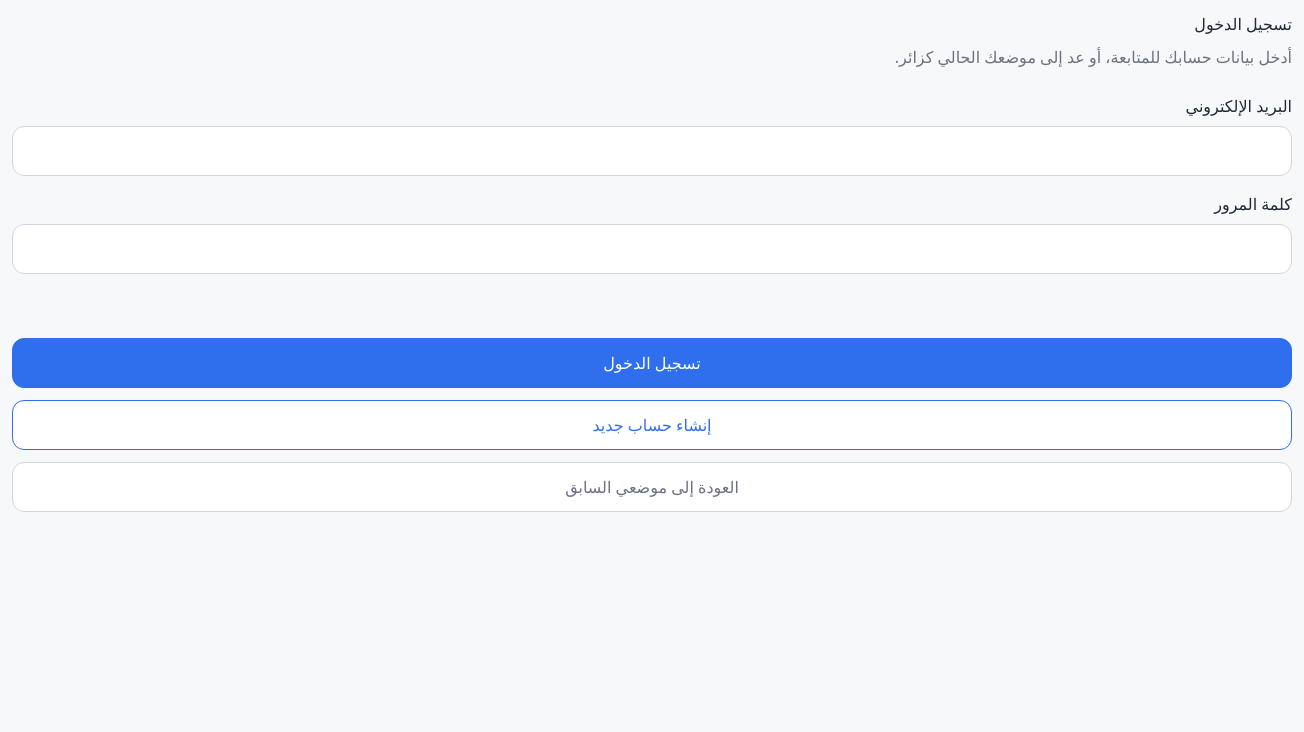
Test: SignInForm › يتحقق من الحقول المطلوبة قبل استدعاء الخدمة
The image size is (1304, 732).
Click the button "تسجيل الدخول". click: (652, 363)
box: [12,338,1292,388]
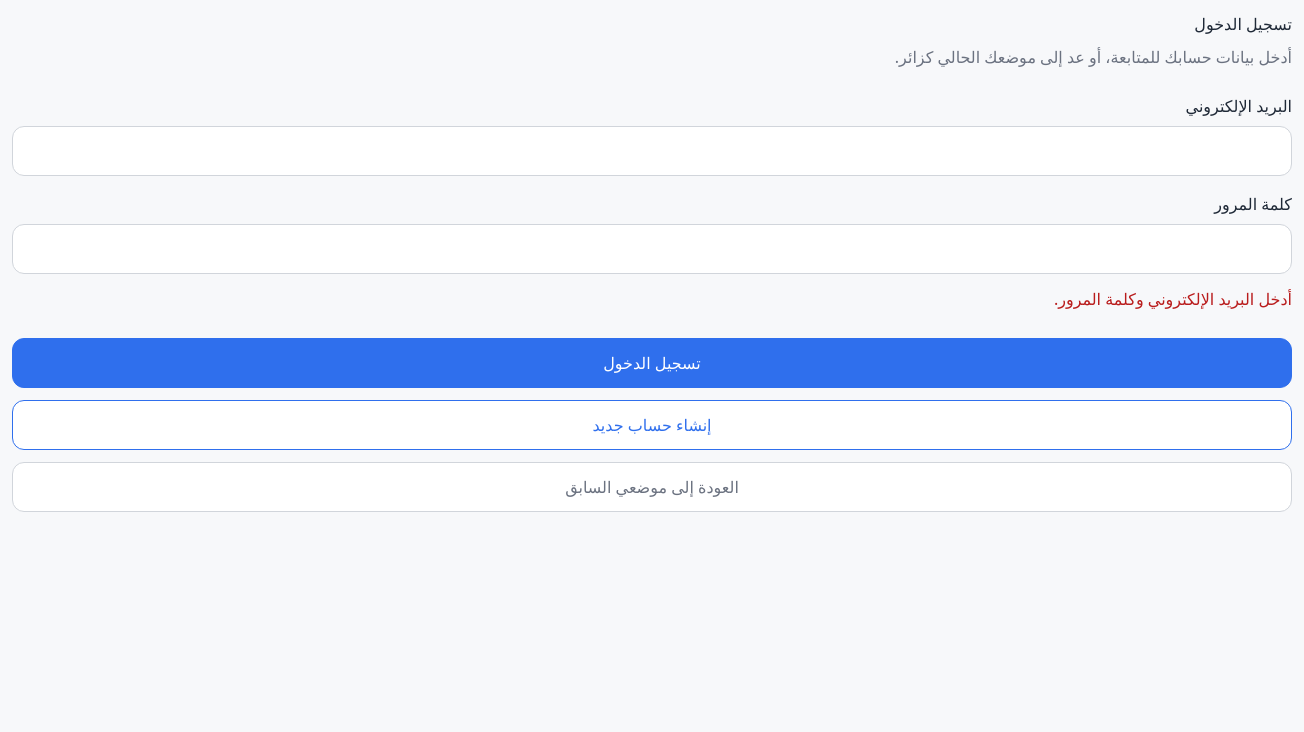
Expected: the message reads "أدخل البريد الإلكتروني وكلمة المرور.", [1054,288,1292,310]
